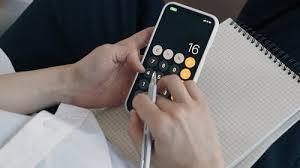Calculator: (128, 39, 204, 111)
